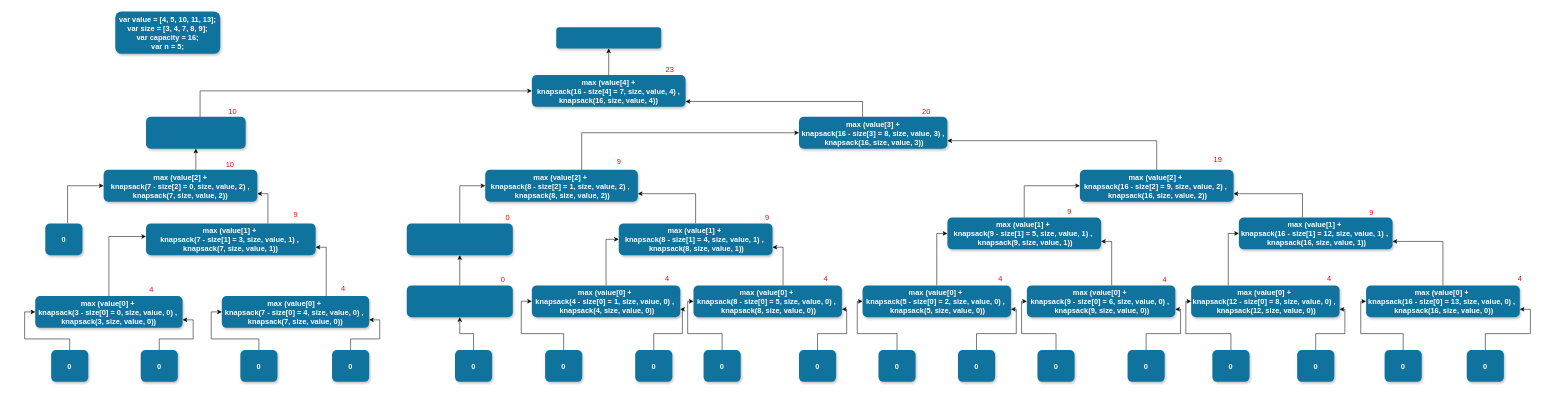
This 1544x399 diagram has some shape labels left out. The centre of each missing label's shape, as x and y in pixels:
knapsack(1, size, value, 0): the point at 460,302
knapsack(1, size, value, 1): the point at 460,240
knapsack(16, size, value, 5): the point at 609,38
knapsack(7, size, value, 3): the point at 196,133
